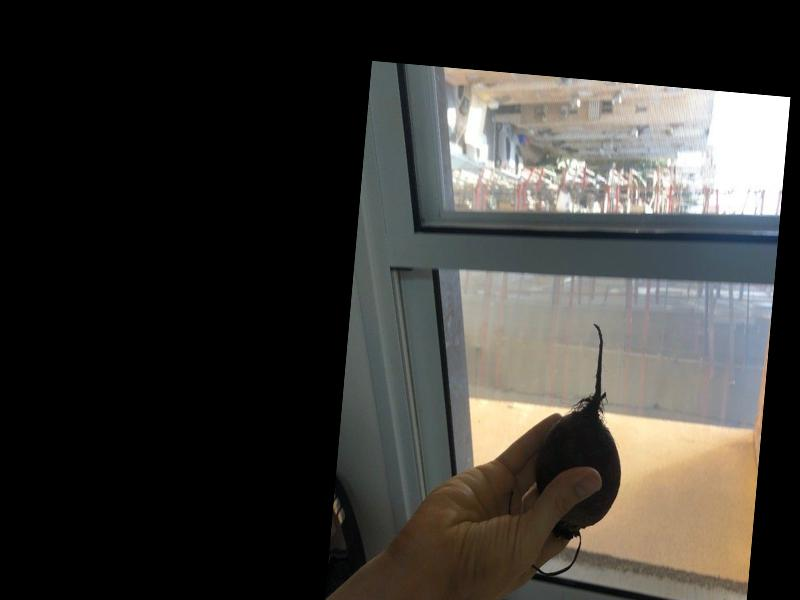Beet: (501, 317, 633, 581)
